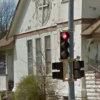Traffic light: (53, 23, 86, 83)
